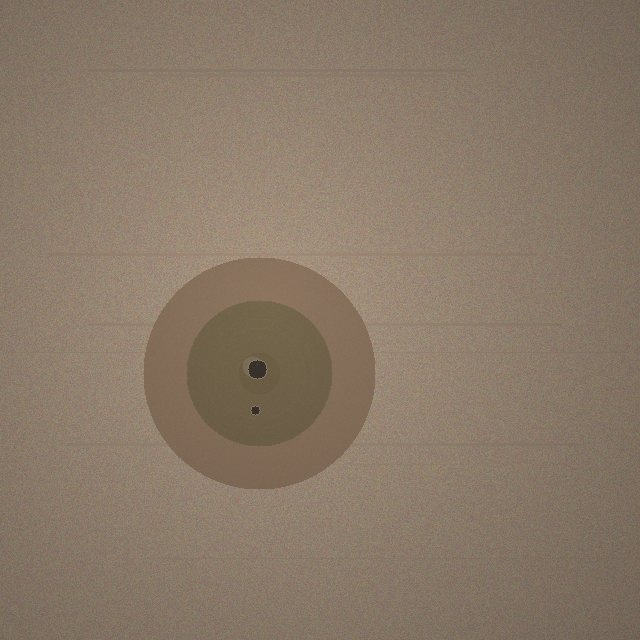shrinkage: (143, 257, 375, 489)
